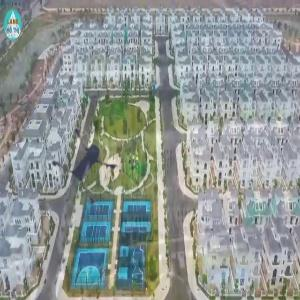drone: (38, 116, 147, 225)
